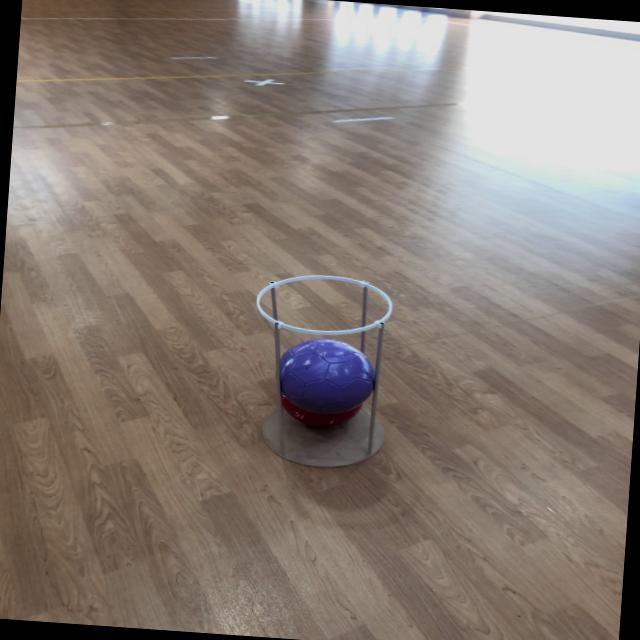purple_ball: (277, 342, 380, 416)
red_ball: (283, 400, 361, 430)
